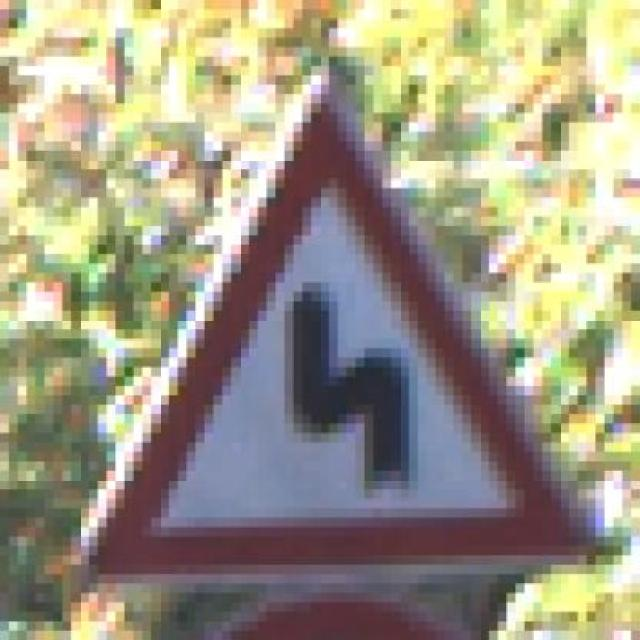Left Zig Zag Traffic: (44, 66, 614, 583)
